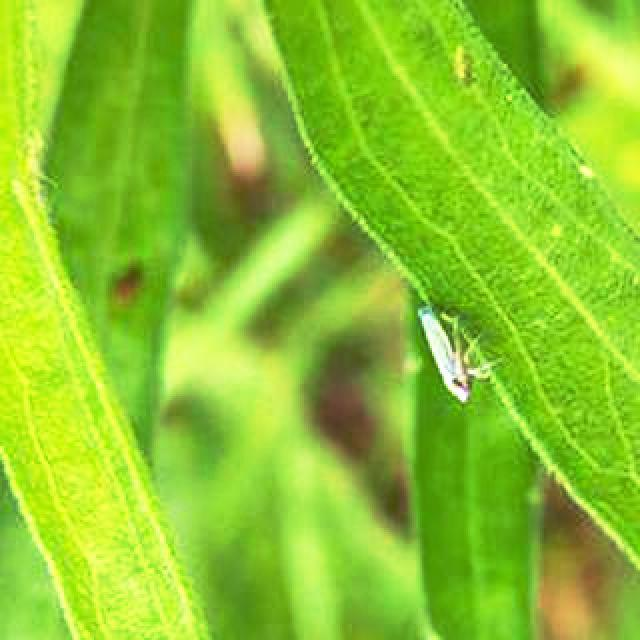green-leafhopper: (420, 309, 481, 405)
